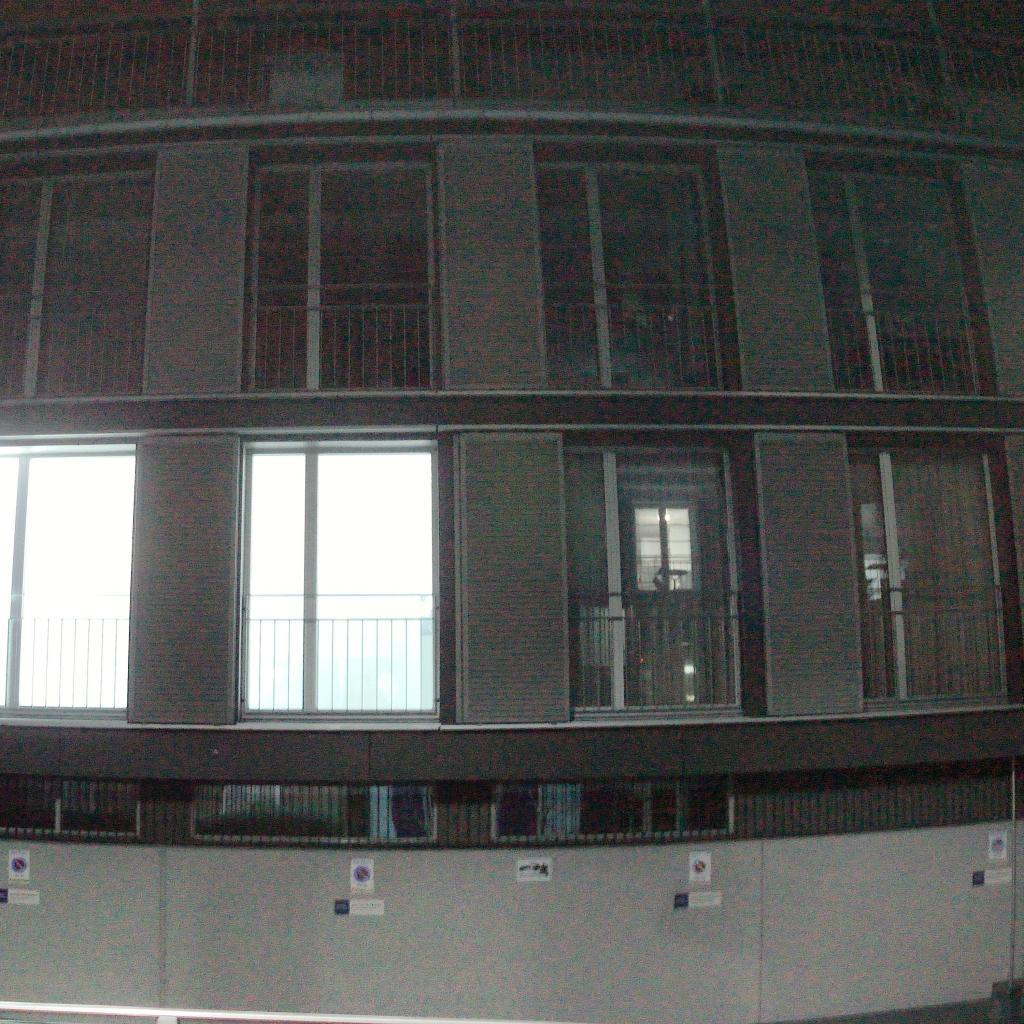balcony-fence: (234, 592, 436, 718), (566, 590, 740, 710), (252, 279, 433, 390), (542, 281, 723, 388), (856, 586, 1006, 703), (823, 285, 981, 394), (0, 591, 131, 717), (0, 285, 146, 398)
facade: (0, 116, 1024, 730)
fence: (0, 712, 1024, 1024)
street: (0, 1001, 584, 1024)
window: (238, 441, 440, 721), (562, 445, 743, 714), (244, 157, 436, 391), (535, 159, 725, 390), (846, 447, 1009, 707), (809, 167, 984, 394), (0, 441, 136, 717), (0, 166, 156, 399)
